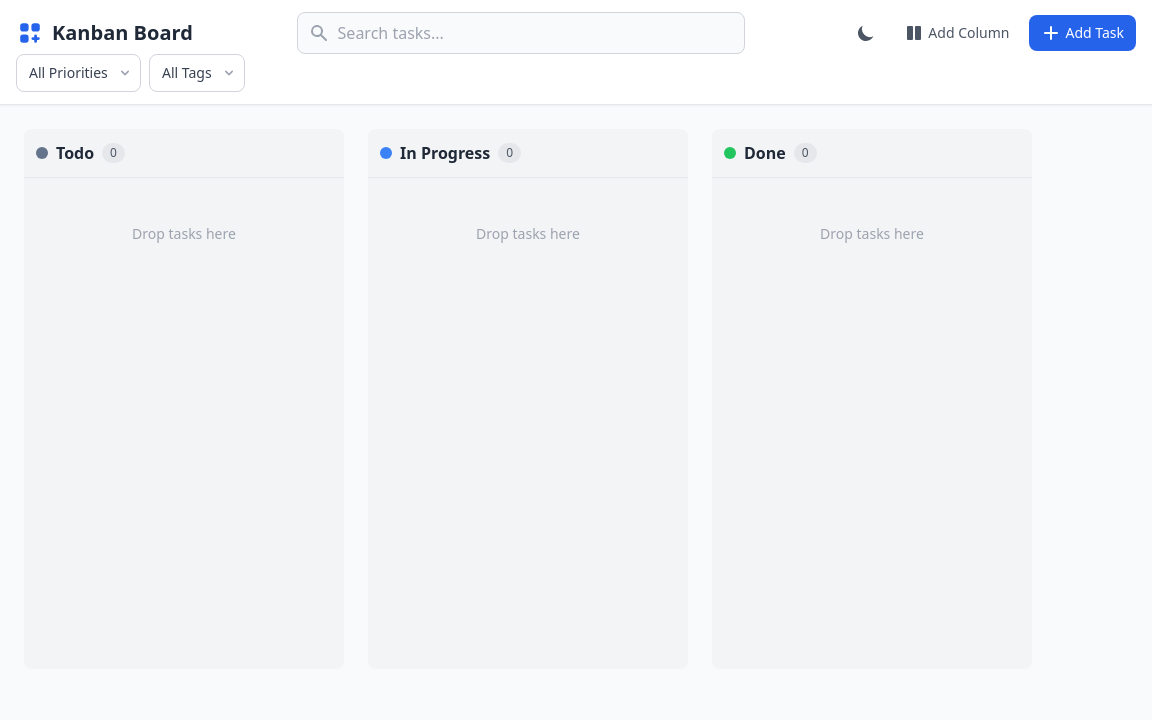
Test case: App Integration › Task Creation Flow › persists task after page refresh
The image size is (1152, 720).
# Create a task
Click the button "Add Task". click: (1083, 33)
box: 1030,15 -> 1136,51
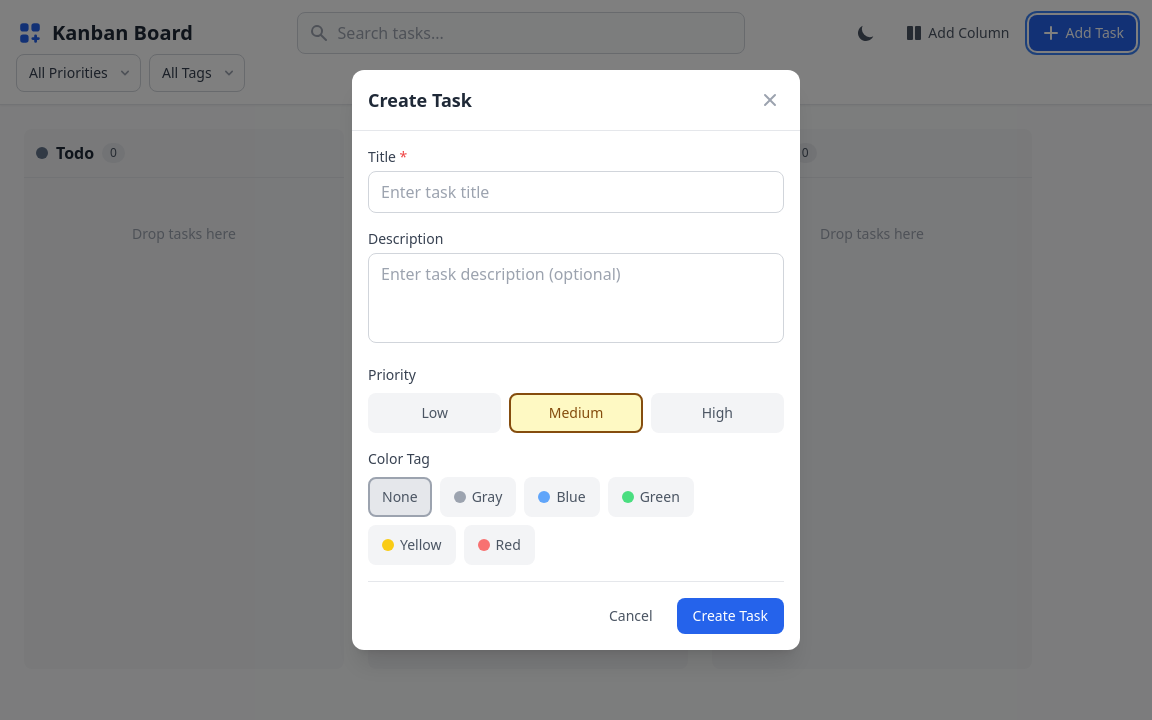
Type "Persistent Task" into the field labelled "Title *". click: (576, 192)
box: 368,171 -> 784,213
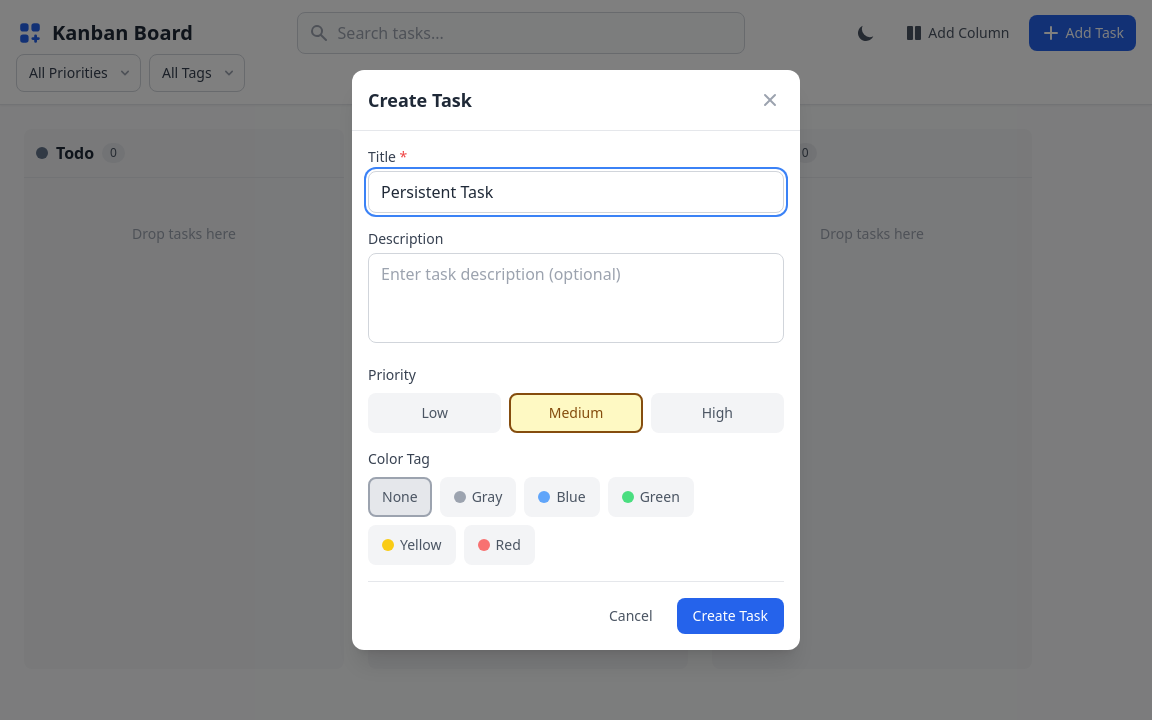
Click the button "Create Task". click: (730, 616)
box: 677,598 -> 784,634
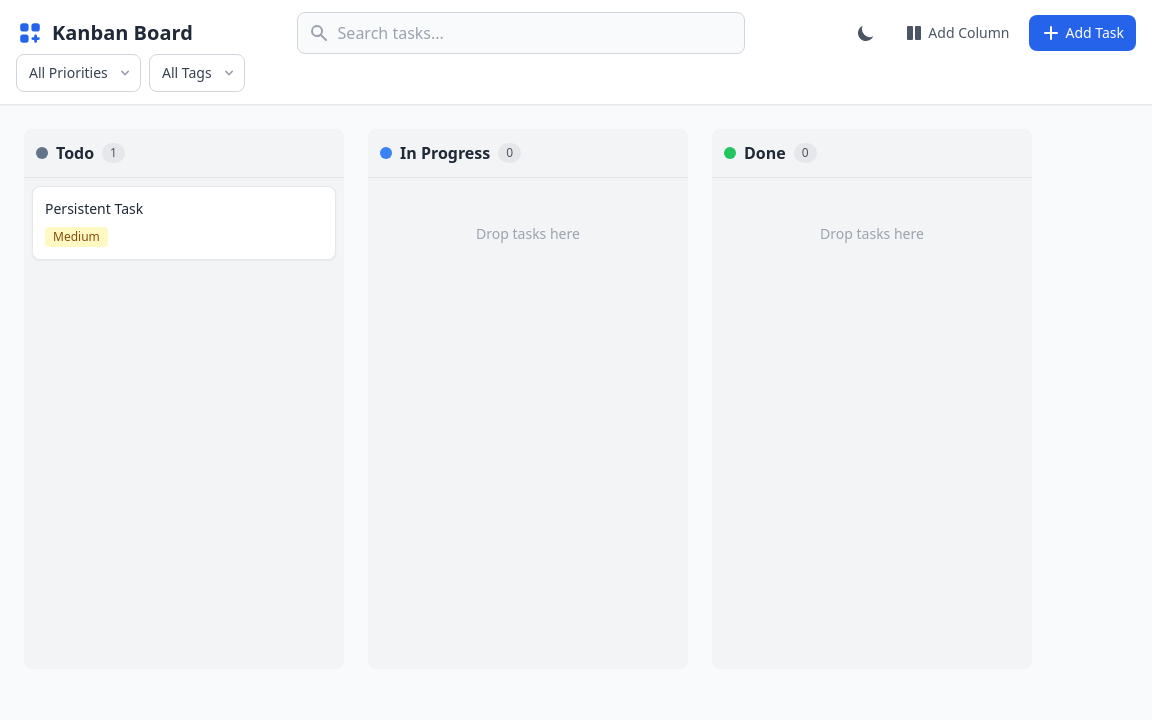
Now the heading "Persistent Task" is shown, box 45,199 -> 143,218
